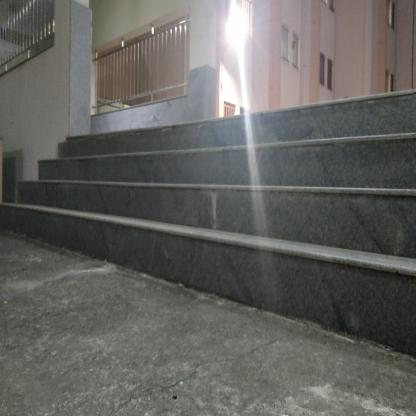stairs: (57, 131, 404, 285)
